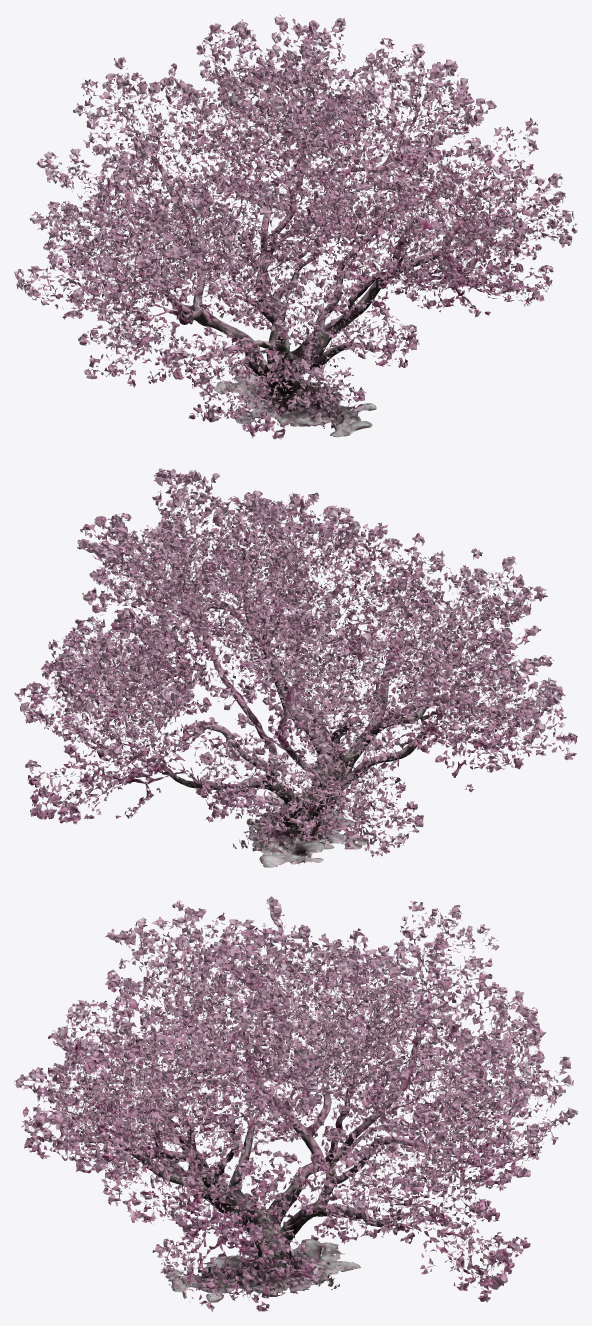
The model's file is cherry.glb.
The picture shows the model from 3 angles, top to bottom: view 1: azimuth 30°, elevation 25°; view 2: azimuth 150°, elevation 25°; view 3: azimuth 270°, elevation 25°; orthographic projection. The views are drawn at different scales.
Bounding box in the file's own units: 1.89 × 1.31 × 1.83.
